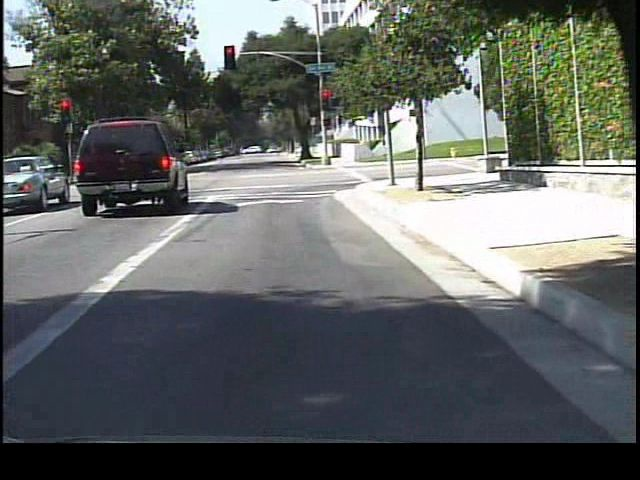person: (377, 131, 396, 167)
